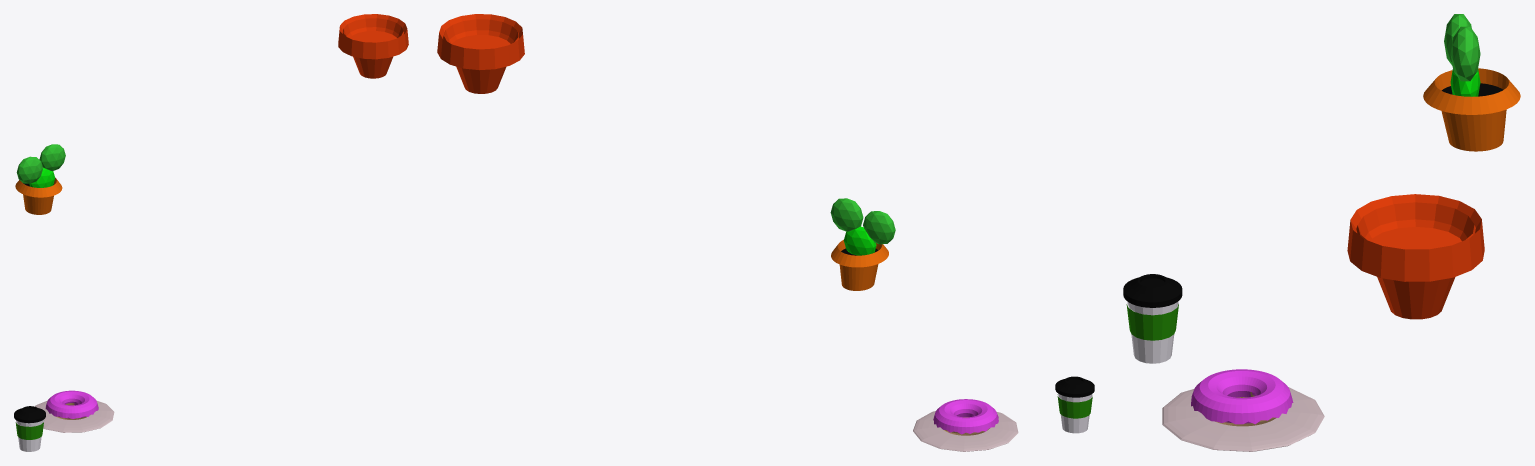
The model's file is Decorações.fbx.
3 views of the same model, side by side, from view 1: azimuth 30°, elevation 25°; view 2: azimuth 150°, elevation 25°; view 3: azimuth 270°, elevation 25° (orthographic). The views are drawn at different scales.
Visible parts, largest first — view 1: vaso de planta, Donut, cacto.001, Copo; view 2: vaso de planta, Donut, cacto.001, Copo; view 3: vaso de planta, Donut, cacto.001, Copo.
Boxes of the visible parts, x1=… form: vaso de planta: x1=338, y1=14, x2=408, y2=78; Donut: x1=35, y1=390, x2=114, y2=432; cacto.001: x1=15, y1=144, x2=65, y2=214; Copo: x1=14, y1=406, x2=45, y2=451; vaso de planta: x1=437, y1=14, x2=524, y2=93; Donut: x1=913, y1=399, x2=1018, y2=451; cacto.001: x1=830, y1=198, x2=895, y2=290; Copo: x1=1055, y1=376, x2=1094, y2=433; vaso de planta: x1=1347, y1=194, x2=1484, y2=319; Donut: x1=1162, y1=369, x2=1324, y2=451; cacto.001: x1=1423, y1=14, x2=1520, y2=151; Copo: x1=1123, y1=274, x2=1182, y2=363.
Bounding box in the file's own units: 1712 × 977 × 667.
